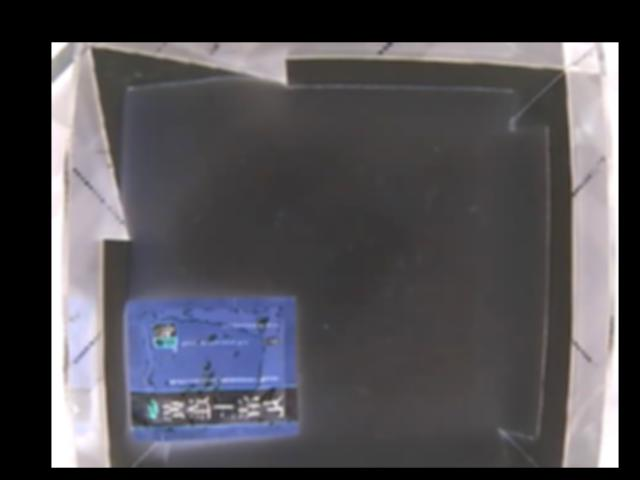Medicine: (125, 294, 297, 441)
